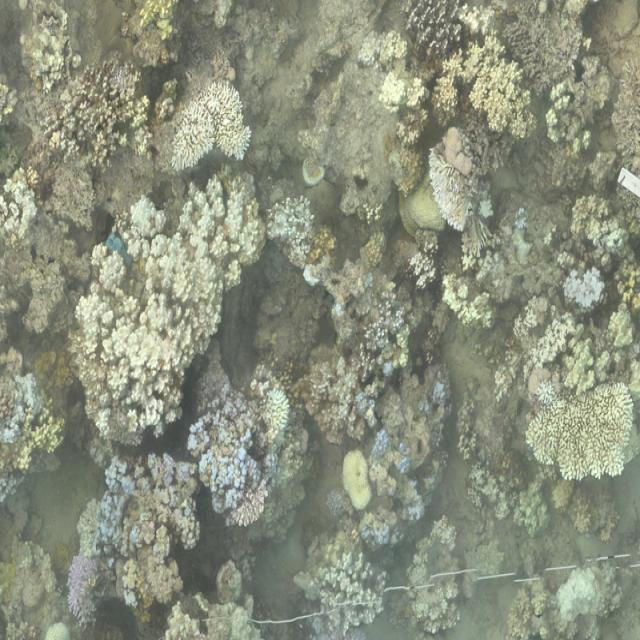Bleached Coral: (83, 442, 197, 579), (188, 384, 297, 526), (163, 82, 265, 185), (264, 178, 328, 289), (544, 567, 621, 627), (558, 251, 607, 337), (425, 149, 476, 224)
